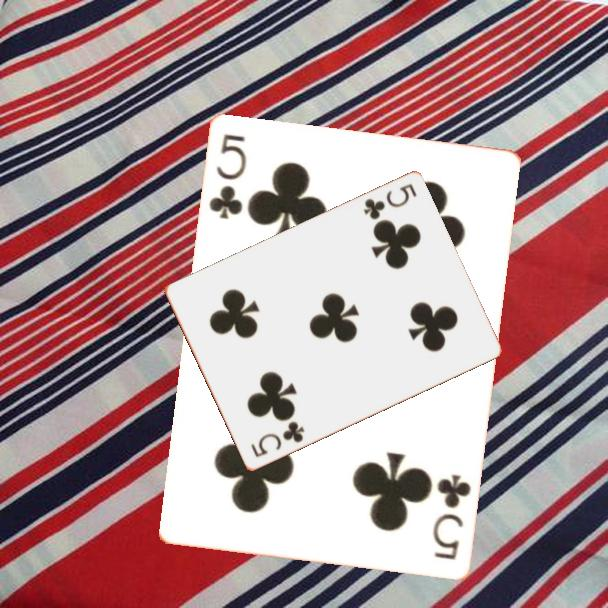c05: (429, 471, 475, 563), (205, 130, 250, 223), (247, 418, 307, 461), (359, 180, 419, 223)
